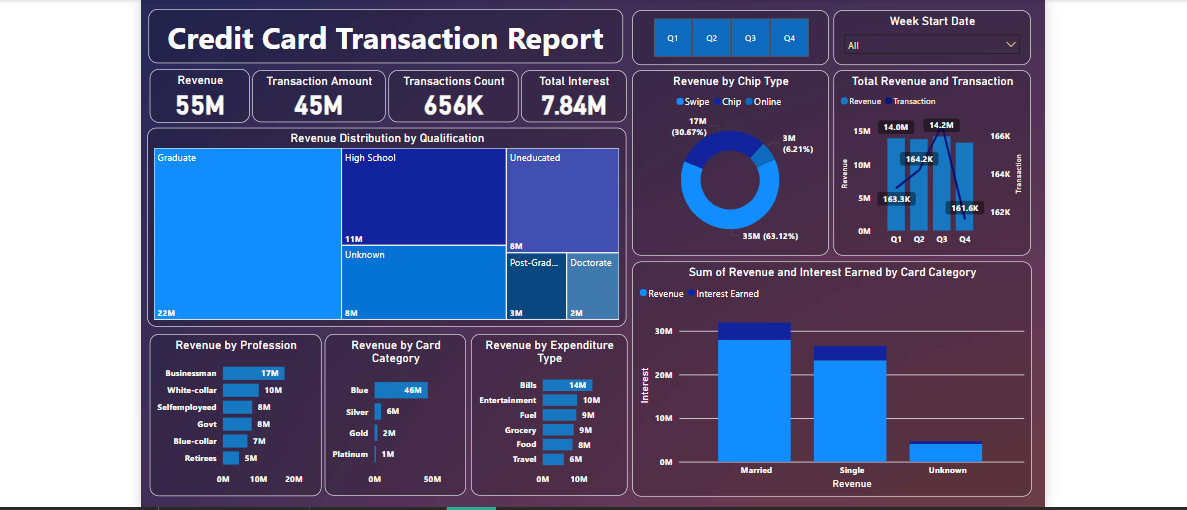

The page's visual inventory and layout, read from the dashboard file:
{"tool":"powerbi","page":{"name":"CC Transaction","canvas":[1280,720],"ordinal":0},"visuals":[{"type":"textbox","box":[10.7,15,671.7,77],"z":0},{"type":"lineStackedColumnComboChart","title":"Total Revenue and Transaction","fields":{"Category":["ccdb cc_details.Qtr"],"Y":["Sum(ccdb cc_details.Revenue)"],"Y2":["Sum(ccdb cc_details.Total_Trans_Ct)"]},"box":[980,101.1,279,262.5],"z":1000},{"type":"barChart","title":"Revenue by Expenditure Type","fields":{"Y":["Sum(ccdb cc_details.Revenue)"],"Category":["ccdb cc_details.Exp_Type"]},"box":[466.6,474,221.6,229],"z":2000},{"type":"treemap","title":"Revenue Distribution by Qualification","fields":{"Group":["ccdb cust_detail.Education_Level"],"Values":["Sum(ccdb cc_details.Revenue)"]},"box":[9.7,182,678.5,281.9],"z":3000},{"type":"barChart","title":"Revenue by Profession","fields":{"Y":["Sum(ccdb cc_details.Revenue)"],"Category":["ccdb cust_detail.Customer_Job"]},"box":[11.7,474.4,243,229.4],"z":4000},{"type":"barChart","title":"Revenue by Card Category","fields":{"Y":["Sum(ccdb cc_details.Revenue)"],"Category":["ccdb cc_details.Card_Category"]},"box":[260,474,200,229],"z":5000},{"type":"donutChart","title":"Revenue by Chip Type","fields":{"Category":["ccdb cc_details.Use_Chip"],"Y":["Sum(ccdb cc_details.Revenue)"]},"box":[696,101.1,278,262.5],"z":6000},{"type":"card","title":"Revenue","fields":{"Values":["Sum(ccdb cc_details.Revenue)"]},"box":[11.7,99.2,141.9,75.8],"z":8000},{"type":"card","title":"Transaction Amount","fields":{"Values":["Sum(ccdb cc_details.Total_Trans_Amt)"]},"box":[157.5,101.1,188.6,73.9],"z":9000},{"type":"card","title":"Total Interest","fields":{"Values":["Sum(ccdb cc_details.Interest_Earned)"]},"box":[538.5,101.1,149.7,73.9],"z":10000},{"type":"card","title":"Transactions Count","fields":{"Values":["Sum(ccdb cc_details.Total_Trans_Ct)"]},"box":[350,101.1,184,73.9],"z":11000},{"type":"slicer","title":"Week Start Date","fields":{"Values":["ccdb cust_detail.Education_Level"]},"box":[980,15.6,279,77.8],"z":12000},{"type":"slicer","fields":{"Values":["ccdb cc_details.Qtr"]},"box":[696,15.6,278,77.8],"z":13000},{"type":"columnChart","title":"Sum of Revenue and Interest Earned by Card Category","fields":{"Category":["ccdb cust_detail.Marital_Status"],"Y":["Sum(ccdb cc_details.Revenue)","Sum(ccdb cc_details.Interest_Earned)"]},"box":[696,371.3,565.7,332.4],"z":14000}]}

Visuals, with their boxes on the page's 1280x720 design canvas (x1, y1, x2, y2). These are canvas units, not pixel positions in the 1187x510 screenshot, which may show the page scaled, cropped or inside an application window:
textbox: box(11, 15, 682, 92)
"Total Revenue and Transaction" lineStackedColumnComboChart: box(980, 101, 1259, 364)
"Revenue by Expenditure Type" barChart: box(467, 474, 688, 703)
"Revenue Distribution by Qualification" treemap: box(10, 182, 688, 464)
"Revenue by Profession" barChart: box(12, 474, 255, 704)
"Revenue by Card Category" barChart: box(260, 474, 460, 703)
"Revenue by Chip Type" donutChart: box(696, 101, 974, 364)
"Revenue" card: box(12, 99, 154, 175)
"Transaction Amount" card: box(158, 101, 346, 175)
"Total Interest" card: box(538, 101, 688, 175)
"Transactions Count" card: box(350, 101, 534, 175)
"Week Start Date" slicer: box(980, 16, 1259, 93)
slicer - ccdb cc_details.Qtr: box(696, 16, 974, 93)
"Sum of Revenue and Interest Earned by Card Category" columnChart: box(696, 371, 1262, 704)
